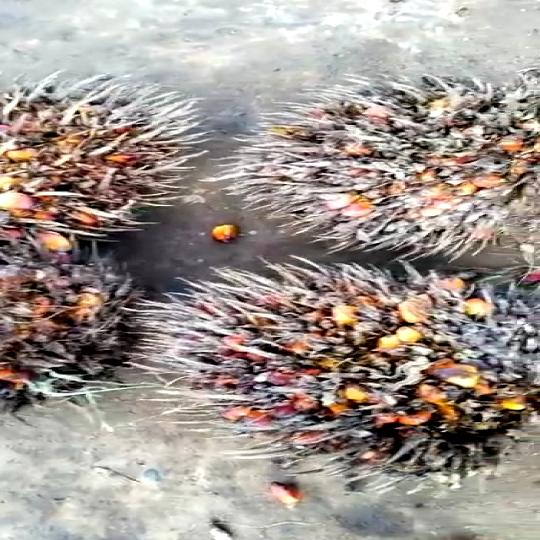terlalu masak: (165, 264, 540, 480), (203, 63, 540, 258)
